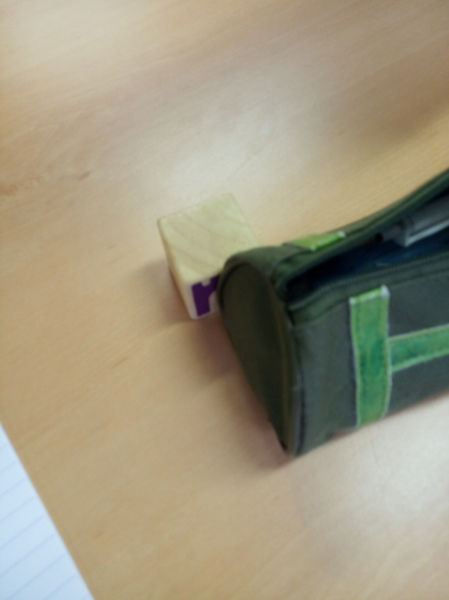violet: (152, 208, 226, 322)
